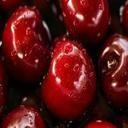apple: (2, 6, 54, 84)
